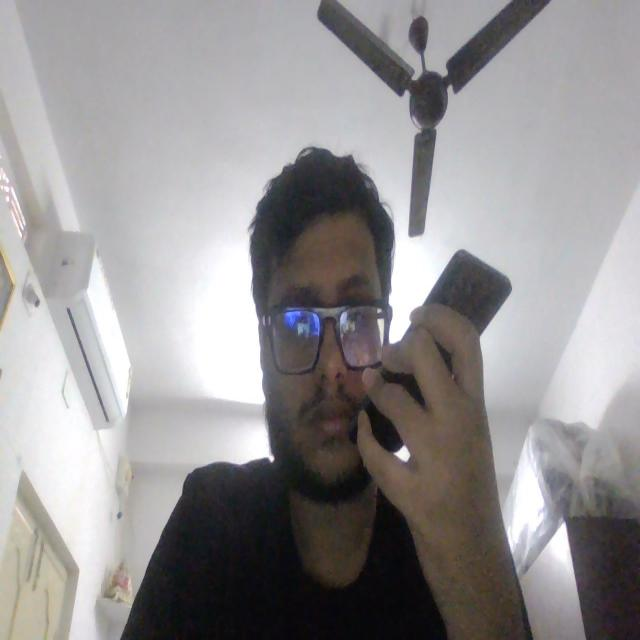phone: (423, 245, 516, 322)
